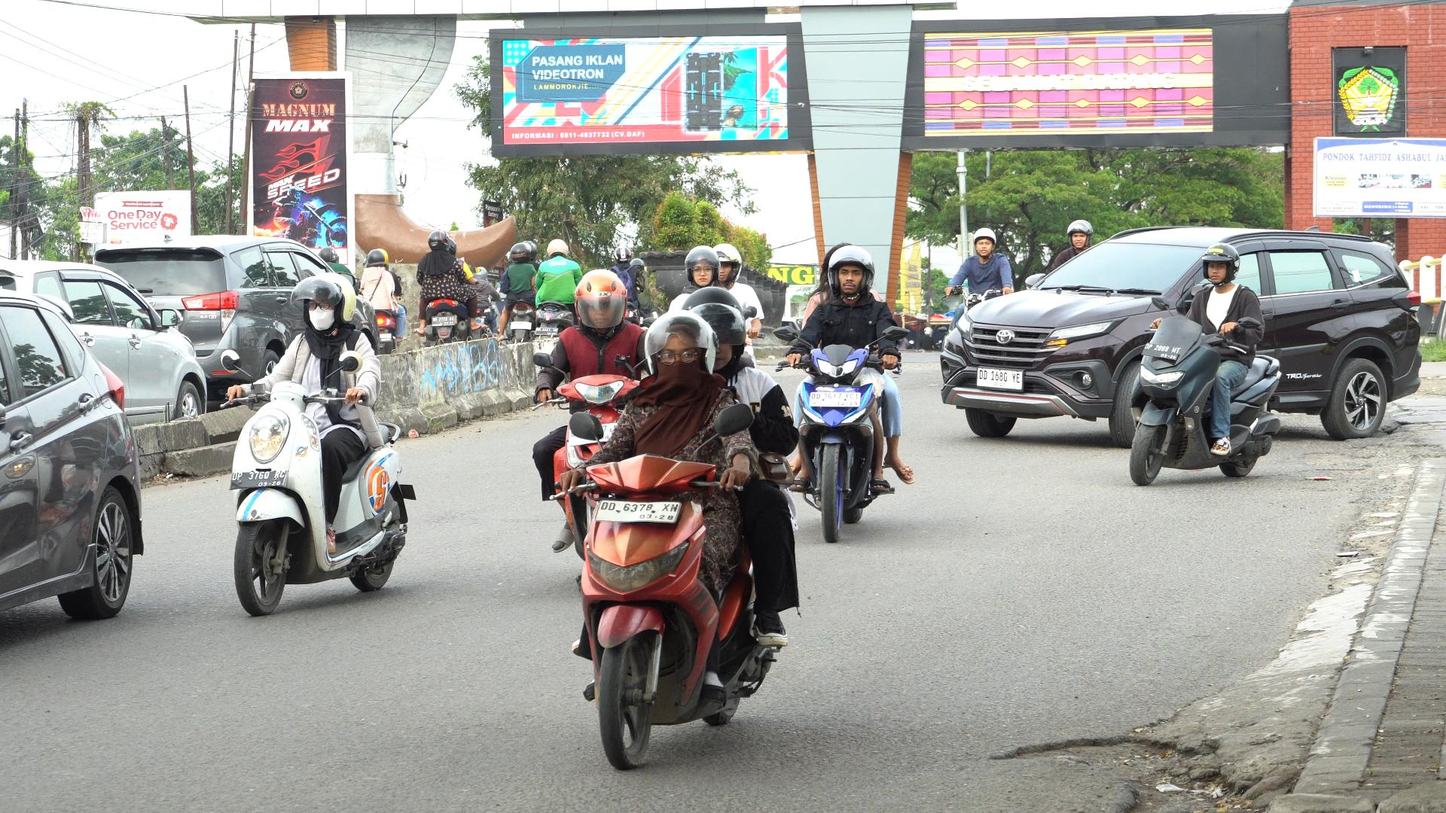number-plate: (595, 495, 679, 521), (229, 471, 286, 489), (1140, 341, 1179, 364)
